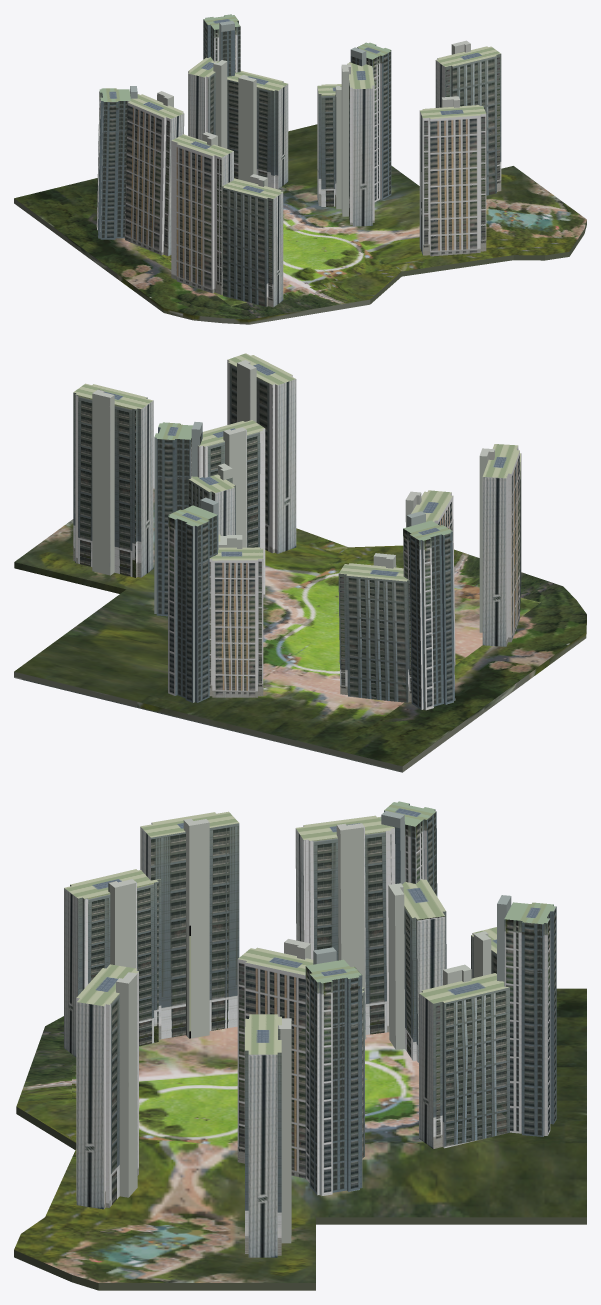
The model's file is ICJ00100_C.glb.
The picture shows the model from 3 angles, top to bottom: view 1: azimuth 30°, elevation 25°; view 2: azimuth 150°, elevation 25°; view 3: azimuth 270°, elevation 25°; orthographic projection. The views are drawn at different scales.
Visible parts, largest first — view 1: MainBuilding; view 2: MainBuilding; view 3: MainBuilding.
Boxes of the visible parts, x1,y1,x2,y2 form: MainBuilding: (14, 14, 586, 324); MainBuilding: (14, 353, 586, 772); MainBuilding: (14, 801, 586, 1290).
Size of the model in its own units: 11173 by 4070 by 9187.
1 material, 1 textured.
